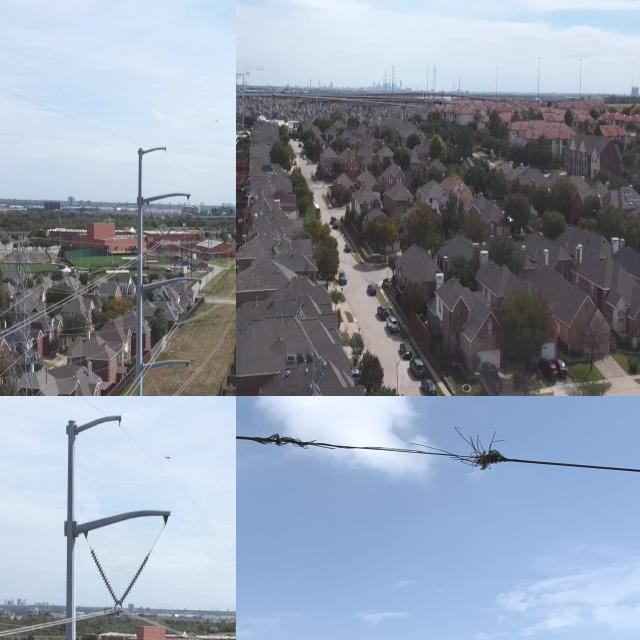杆塔: (0, 220, 56, 396)
正常绝缘子: (111, 543, 158, 620), (84, 536, 126, 616), (161, 208, 185, 245), (173, 295, 194, 329), (160, 289, 179, 326), (148, 209, 167, 243), (147, 372, 162, 396), (167, 376, 183, 396)
电缆破损: (236, 396, 543, 481)
